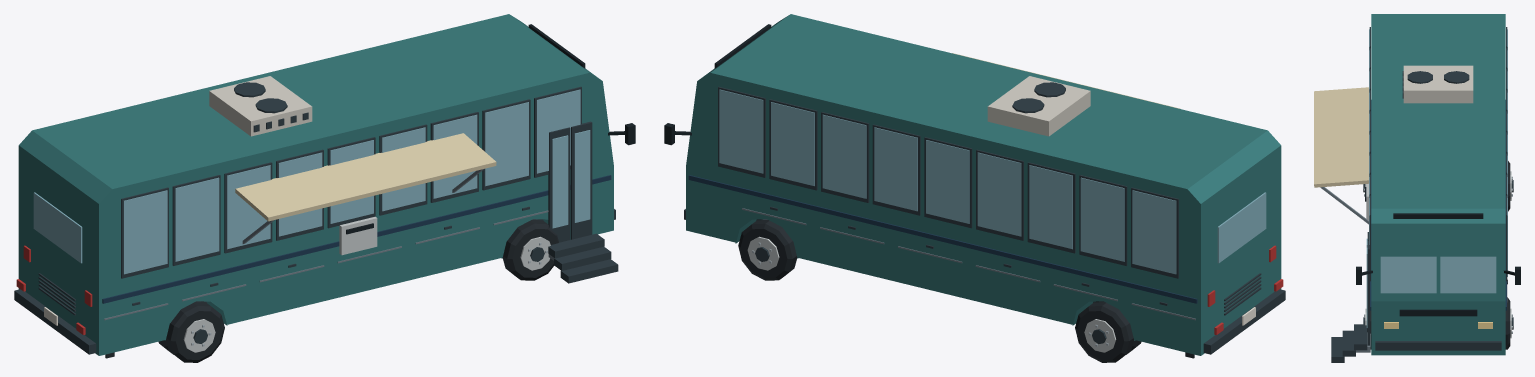
Rendered from b15_mobile_library_bus.glb.
The picture shows the model from 3 angles, left to right: view 1: azimuth 30°, elevation 25°; view 2: azimuth 150°, elevation 25°; view 3: azimuth 270°, elevation 25°; orthographic projection. The views are drawn at different scales.
Parts seen in each view (by area): view 1: b15_mobile_library_bus; view 2: b15_mobile_library_bus; view 3: b15_mobile_library_bus.
Boxes of the visible parts, bbox=[...] form: b15_mobile_library_bus: bbox=[14, 14, 635, 362]; b15_mobile_library_bus: bbox=[664, 14, 1285, 362]; b15_mobile_library_bus: bbox=[1314, 14, 1520, 362].
Size of the model in its own units: 9.64 by 3.61 by 3.85.
